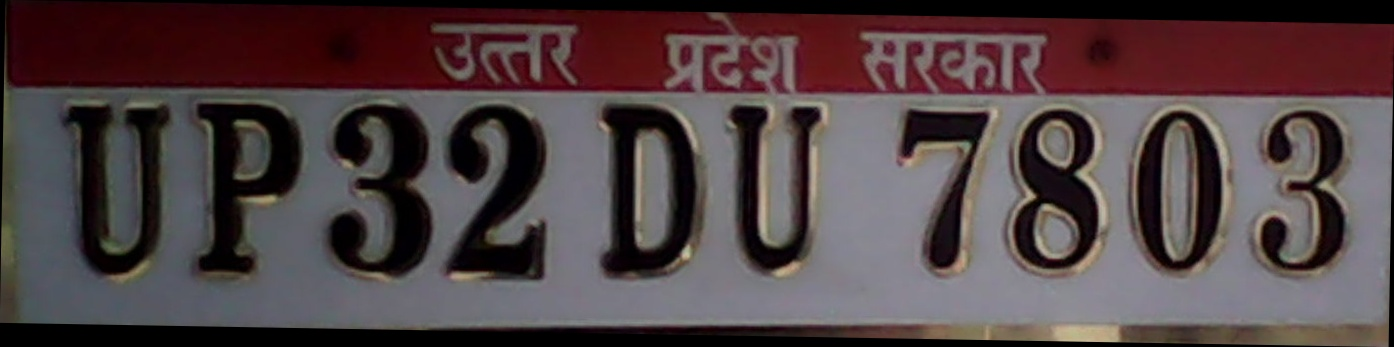character: (187, 95, 303, 281), (320, 96, 435, 283), (56, 96, 169, 280), (594, 98, 705, 277), (442, 102, 548, 284), (891, 102, 1000, 277), (727, 96, 830, 280), (1126, 102, 1230, 281), (1248, 102, 1350, 281), (1003, 97, 1105, 274)
